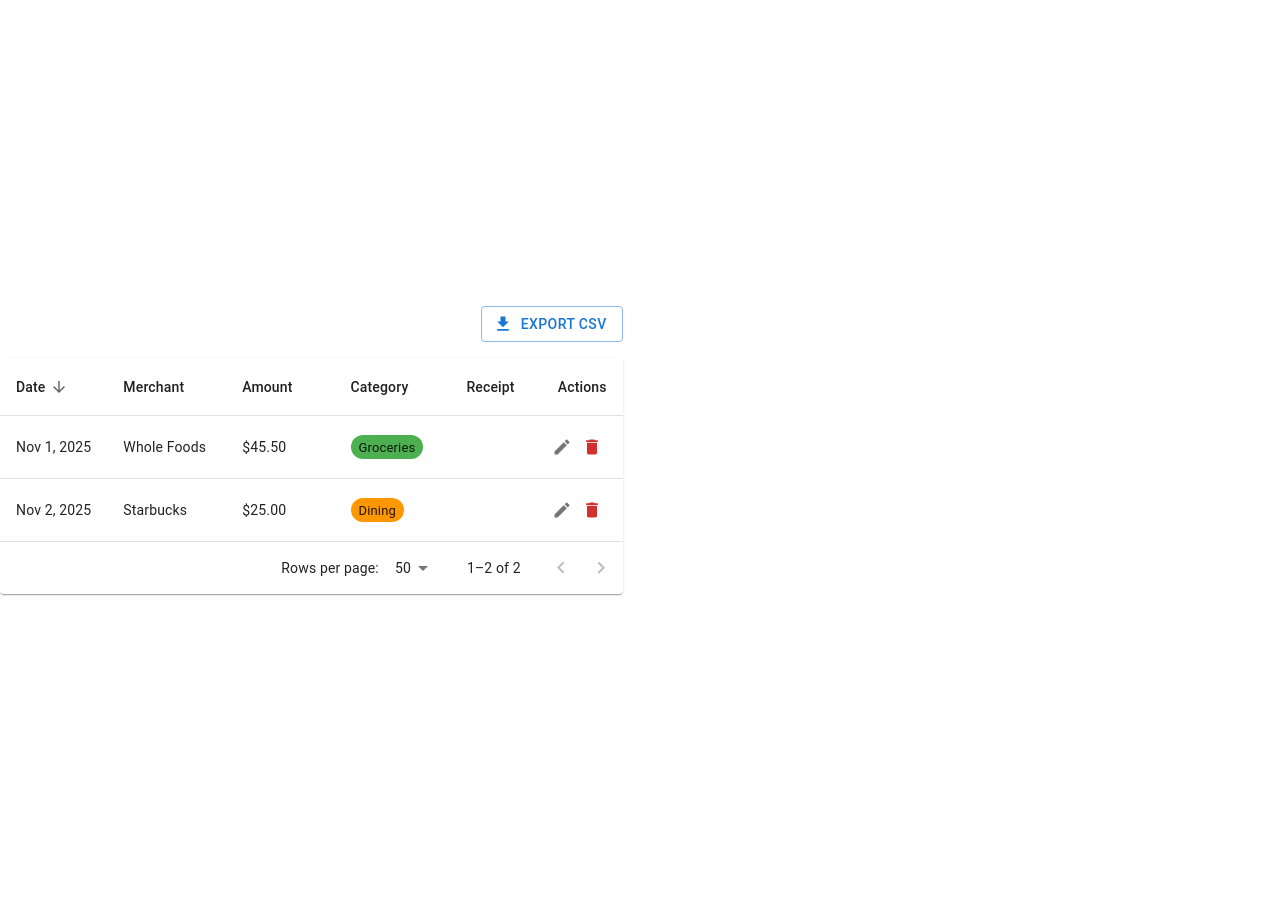
Test case: ExpenseList › cancels delete operation
Expected: the text "Whole Foods" is shown, [107,416,226,479]
Click delete button
Click the button titled "Delete expense" in the row of "Nov 1, 2025".
click(592, 447)  # box [577,432,607,462]
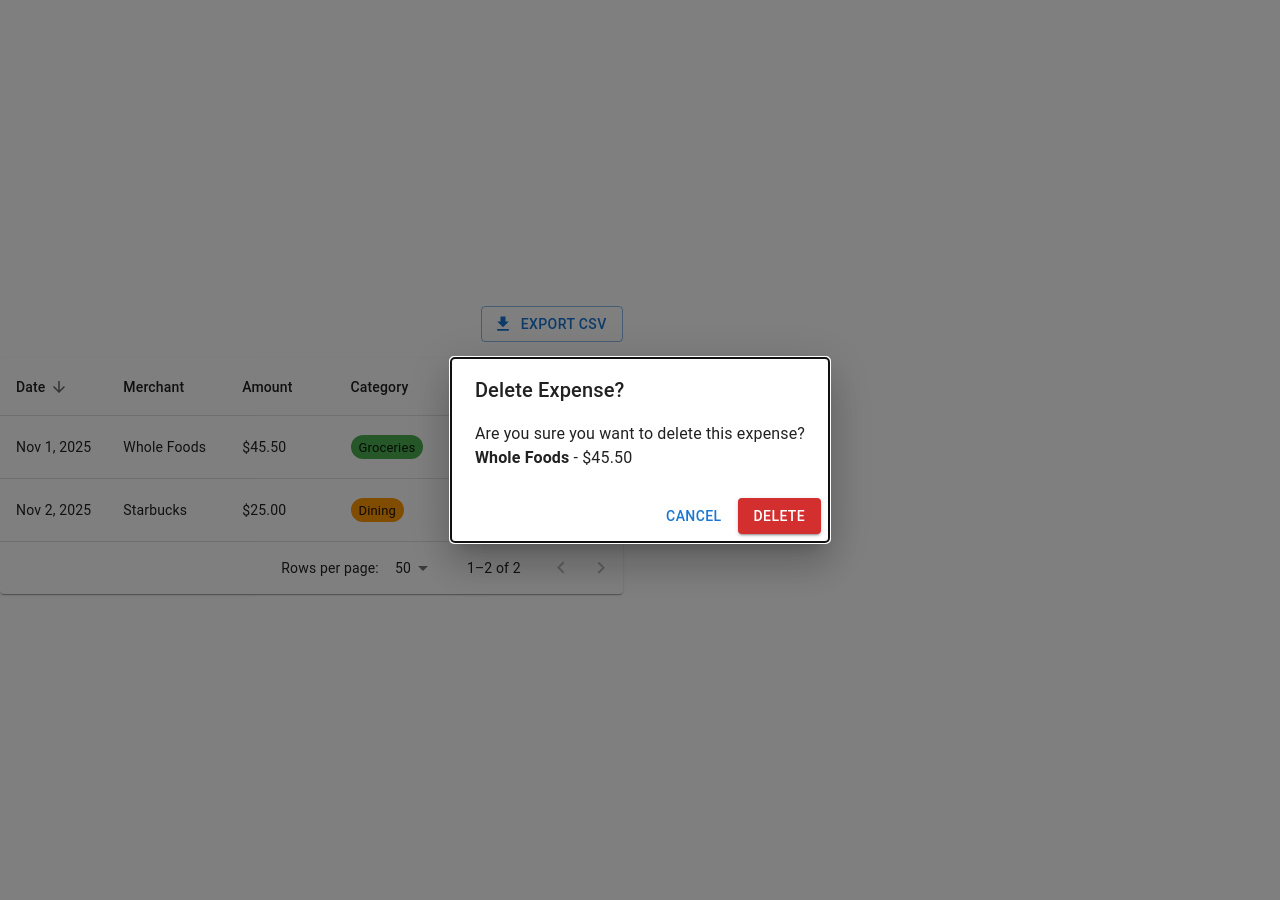
Result: the button "Cancel" is shown
Click the button "Cancel".
click(694, 516)  # box [658,498,730,534]
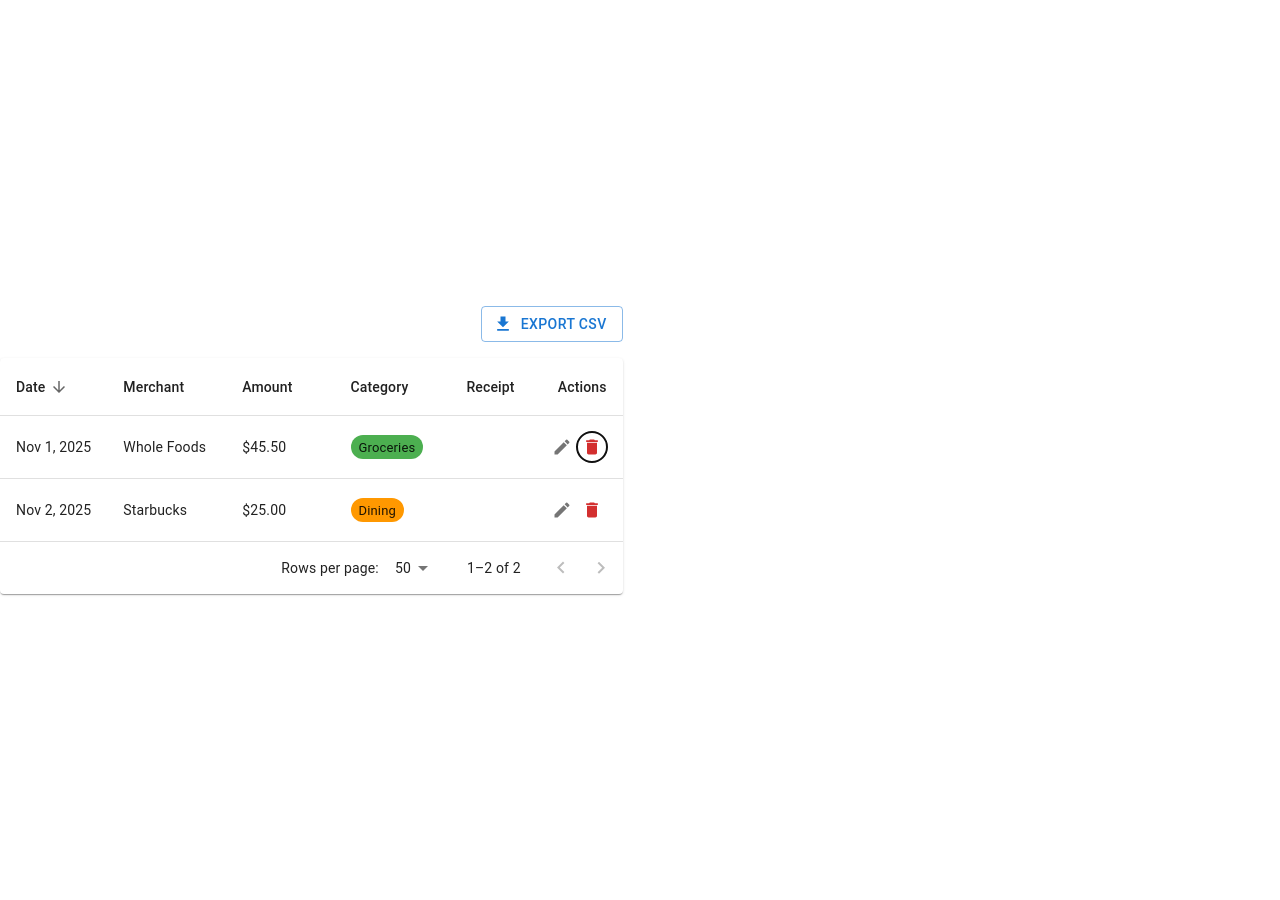
Result: the heading "Delete Expense?" is gone
